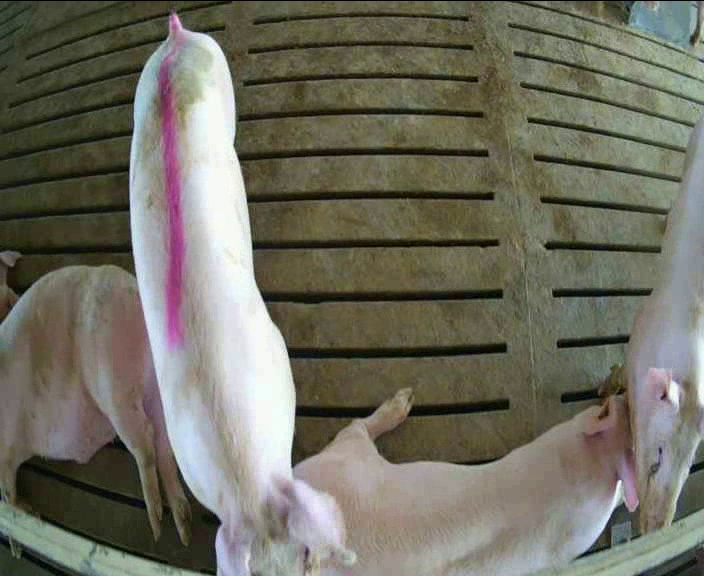pig: (130, 15, 353, 575), (294, 391, 637, 575), (0, 266, 189, 543), (598, 115, 703, 532)
